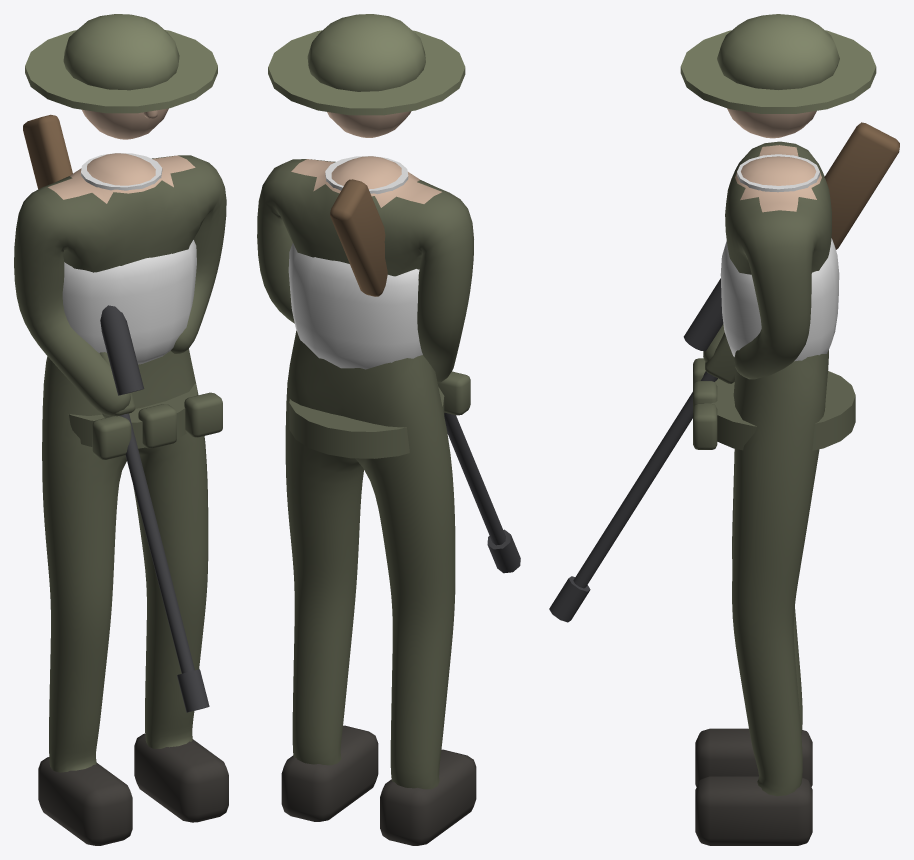
The model's file is sniper.glb.
3 renders of one model, left to right at view 1: azimuth 30°, elevation 25°; view 2: azimuth 150°, elevation 25°; view 3: azimuth 270°, elevation 25°, orthographic. The views are drawn at different scales.
Parts seen in each view (by area): view 1: body; view 2: body; view 3: body.
Boxes of the visible parts, x1=… form: body: x1=14, y1=14, x2=228, y2=845; body: x1=257, y1=14, x2=520, y2=845; body: x1=549, y1=14, x2=899, y2=845.
Size of the model in its own units: 0.482 by 1.8 by 0.7179.
